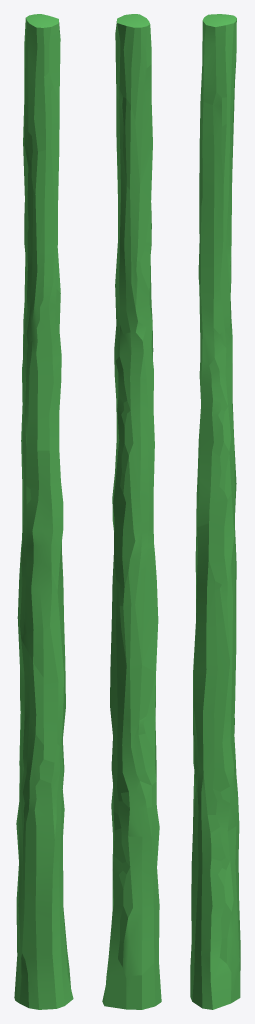
The model's file is jungle_tree_tall_A.fbx.
3 views of the same model, side by side, from view 1: azimuth 30°, elevation 25°; view 2: azimuth 210°, elevation 25°; view 3: azimuth 270°, elevation 25° (orthographic).
Parts seen in each view (by area): view 1: jungle_tree_tall_A; view 2: jungle_tree_tall_A; view 3: jungle_tree_tall_A.
Boxes of the visible parts, box(x1,y1,x2,y2) form: jungle_tree_tall_A: box(14, 14, 73, 1009); jungle_tree_tall_A: box(102, 14, 161, 1009); jungle_tree_tall_A: box(190, 14, 240, 1009).
Size of the model in its own units: 85.82 by 1643 by 76.88.
